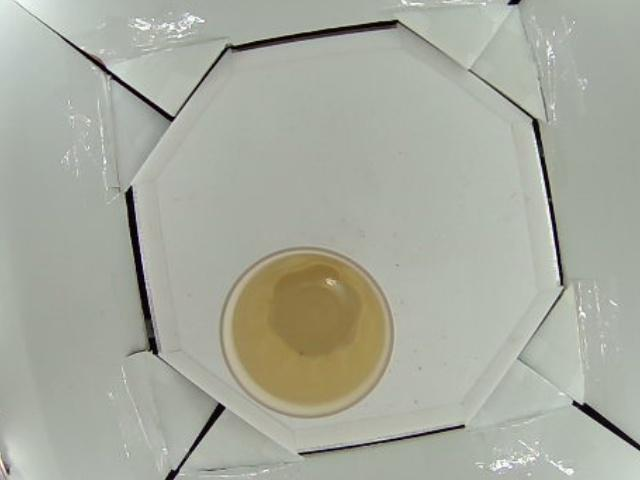Cup: (220, 244, 395, 420)
